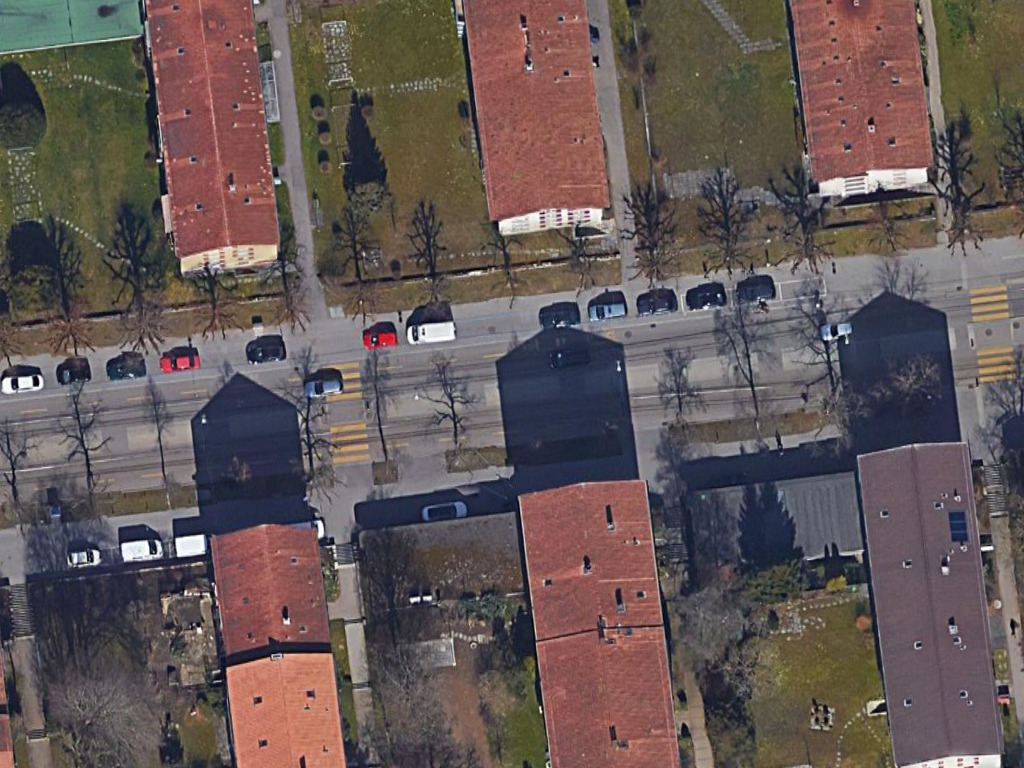car: (584, 296, 629, 328), (0, 367, 45, 397), (155, 349, 204, 376), (816, 315, 857, 344), (298, 376, 346, 400), (358, 327, 401, 352)
van: (404, 318, 461, 348), (116, 536, 167, 564)
